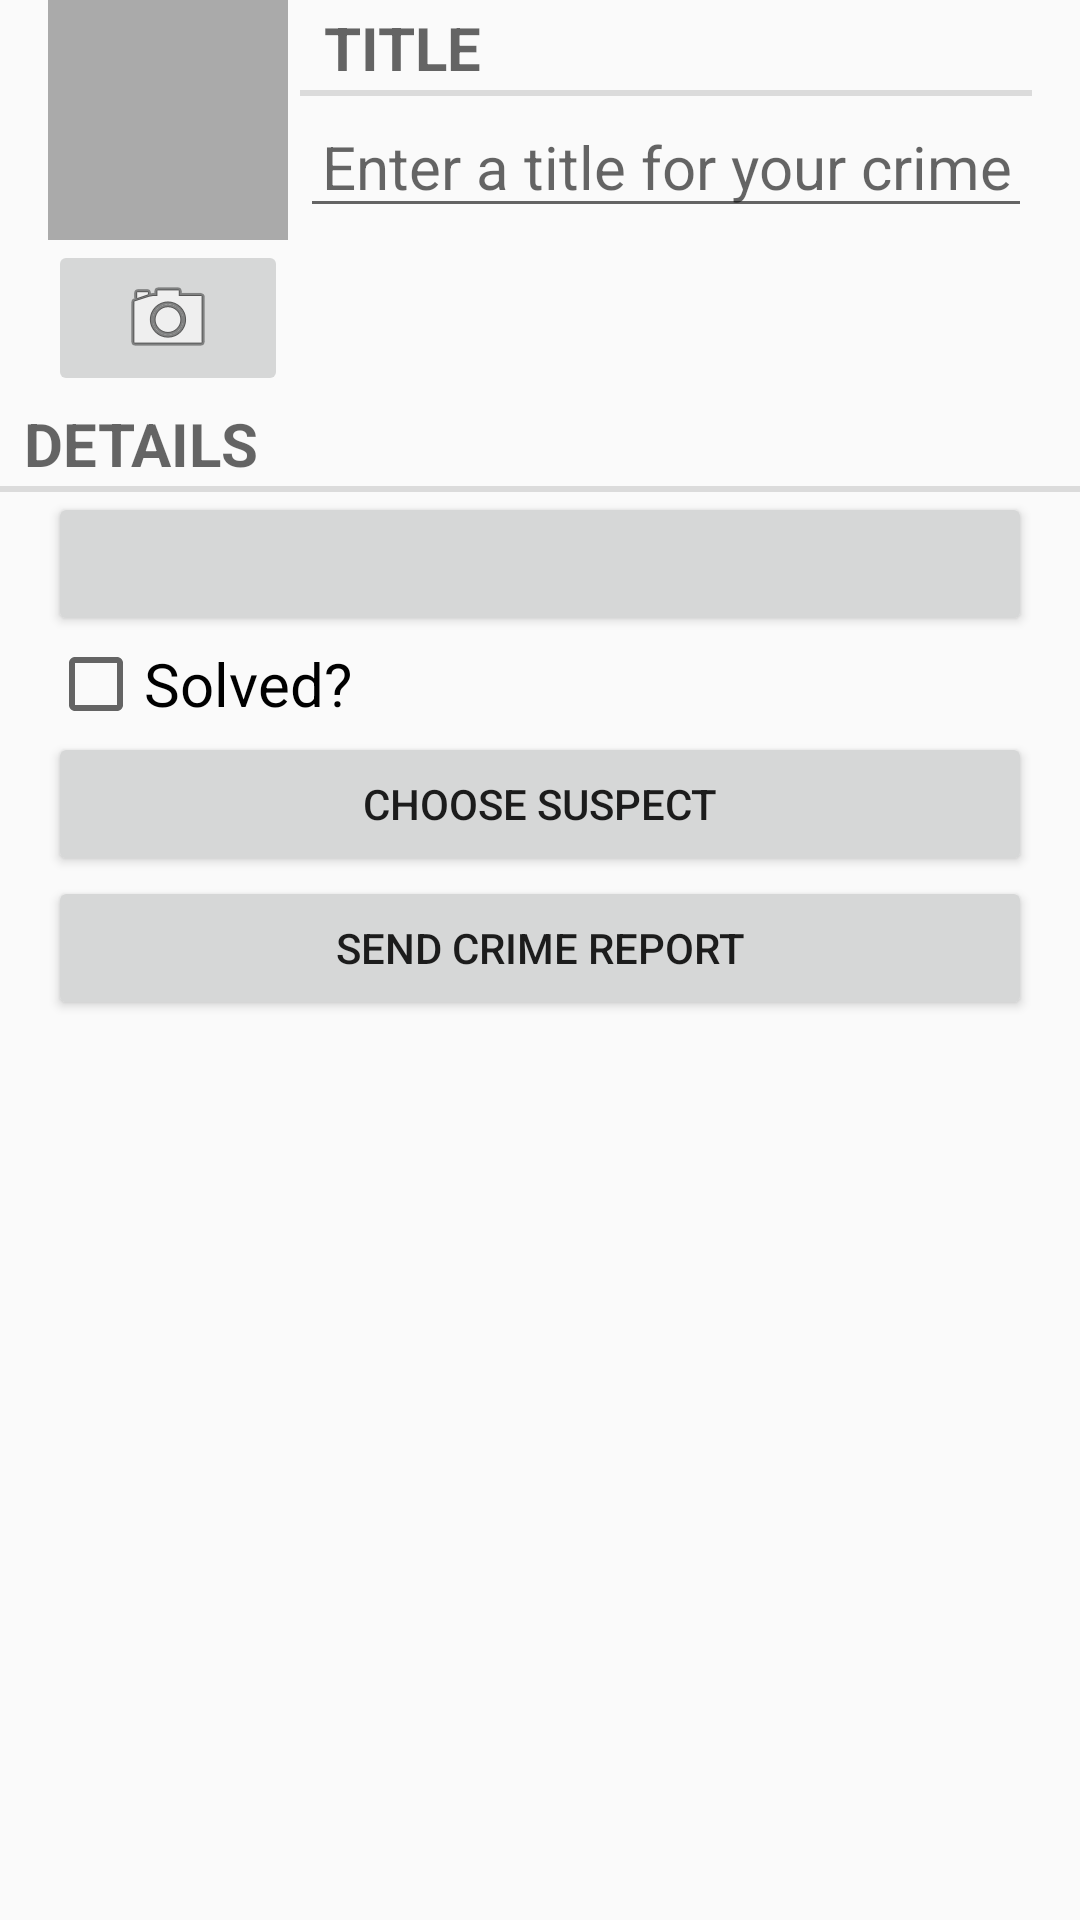

Screen size 1080 × 1920. Icon name, then its center in pixels as (x=x, y=y):
camera: (x=168, y=318)
